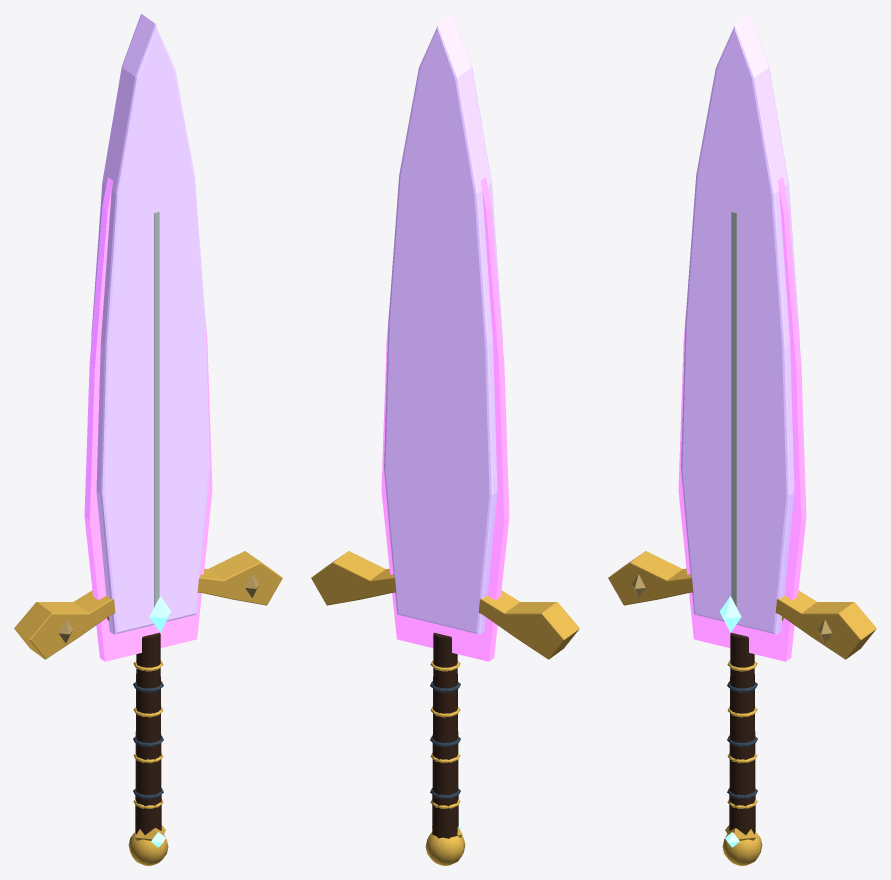
The model's file is greatsword_f6_c1ac54b6.glb.
The picture shows the model from 3 angles, left to right: view 1: azimuth 30°, elevation 25°; view 2: azimuth 150°, elevation 25°; view 3: azimuth 330°, elevation 25°; orthographic projection.
Parts seen in each view (by area): view 1: m1_ow80_, m0_, m6_ow80_, m4_ow80_, m2_ow80_; view 2: m1_ow80_, m6_ow80_, m0_, m4_ow80_; view 3: m1_ow80_, m0_, m6_ow80_, m4_ow80_, m2_ow80_.
Part boxes in pixels (box(x1,y1,x2,y2)): m1_ow80_: box(91, 14, 209, 634); m0_: box(84, 177, 212, 661); m6_ow80_: box(14, 551, 282, 865); m4_ow80_: box(135, 632, 161, 834); m2_ow80_: box(154, 211, 159, 607); m1_ow80_: box(384, 14, 502, 634); m6_ow80_: box(311, 551, 579, 865); m0_: box(381, 177, 509, 661); m4_ow80_: box(432, 632, 458, 838); m1_ow80_: box(681, 14, 799, 634); m0_: box(678, 177, 806, 661); m6_ow80_: box(608, 551, 876, 865); m4_ow80_: box(729, 632, 755, 834); m2_ow80_: box(731, 211, 736, 607).
Size of the model in its own units: 1.17 by 3.73 by 0.2153.
